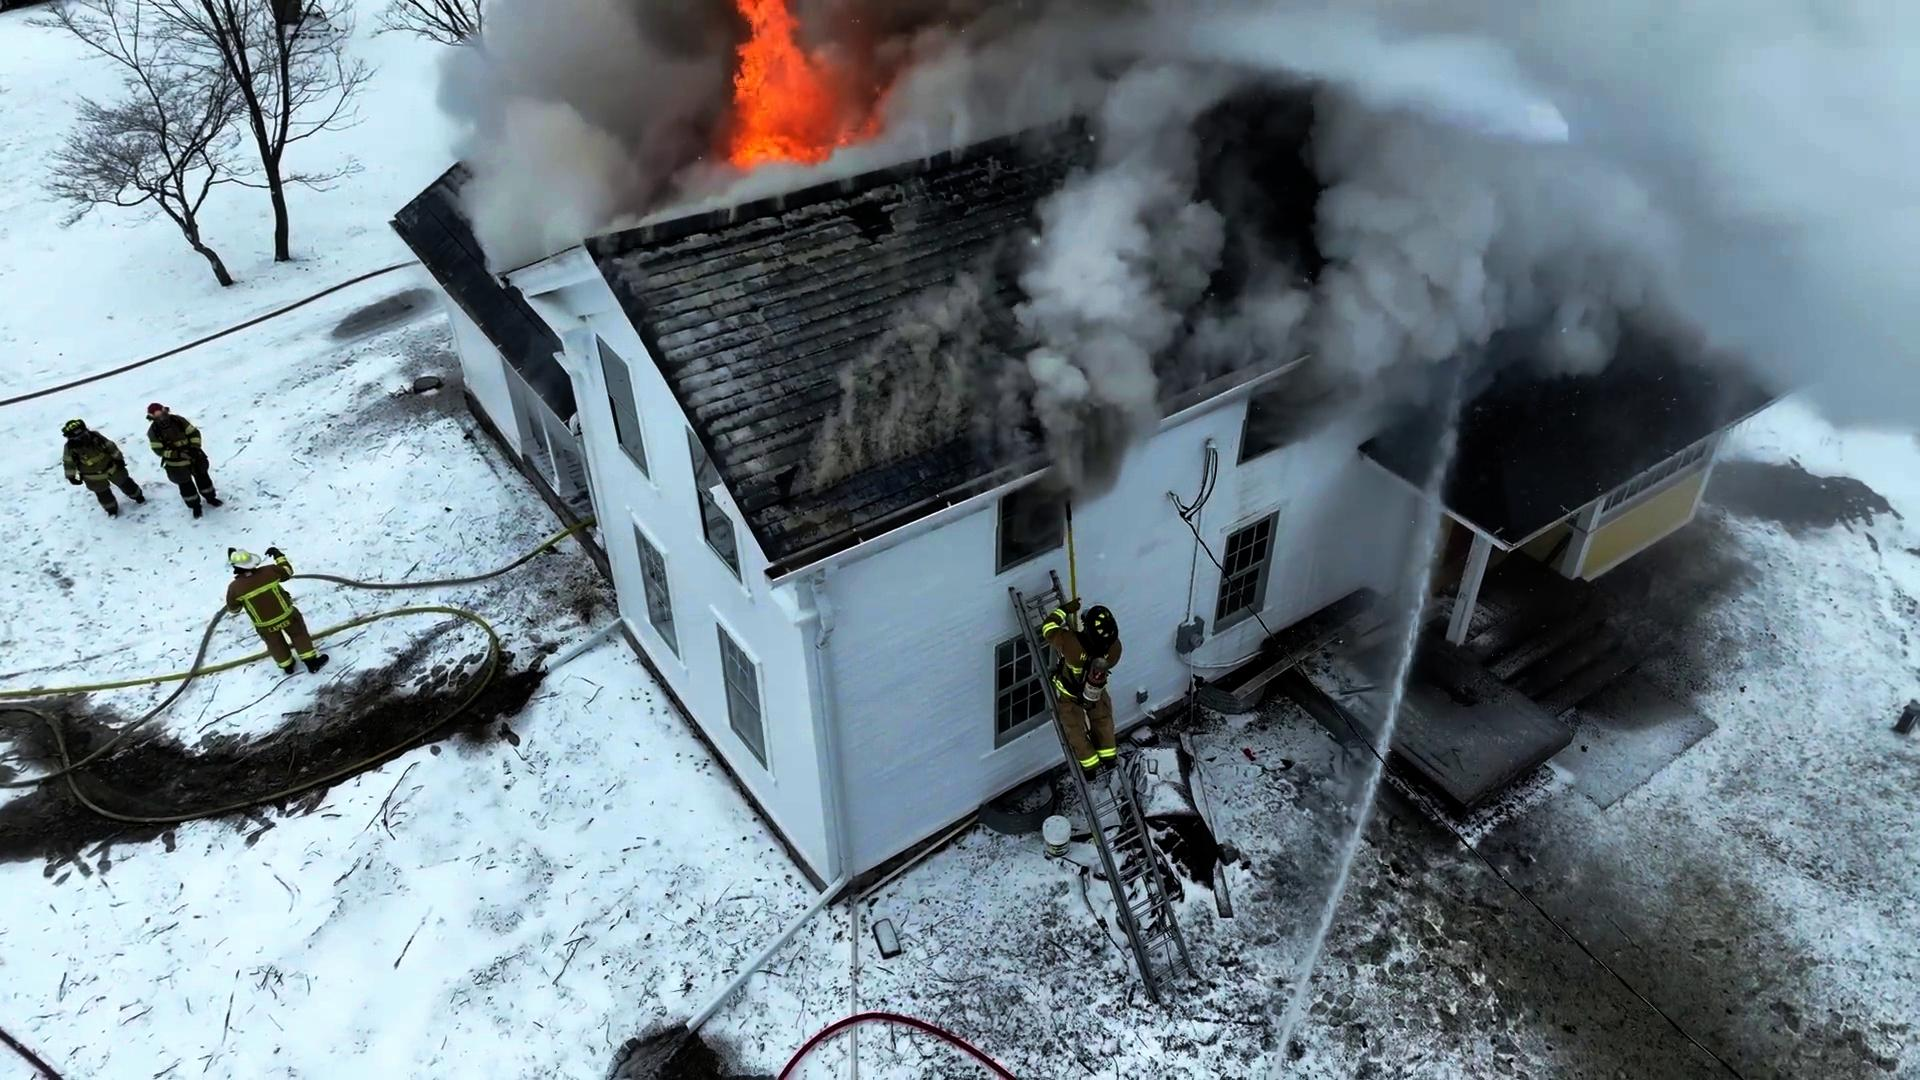fire: (717, 0, 903, 187)
smoke: (1336, 55, 1920, 309)
